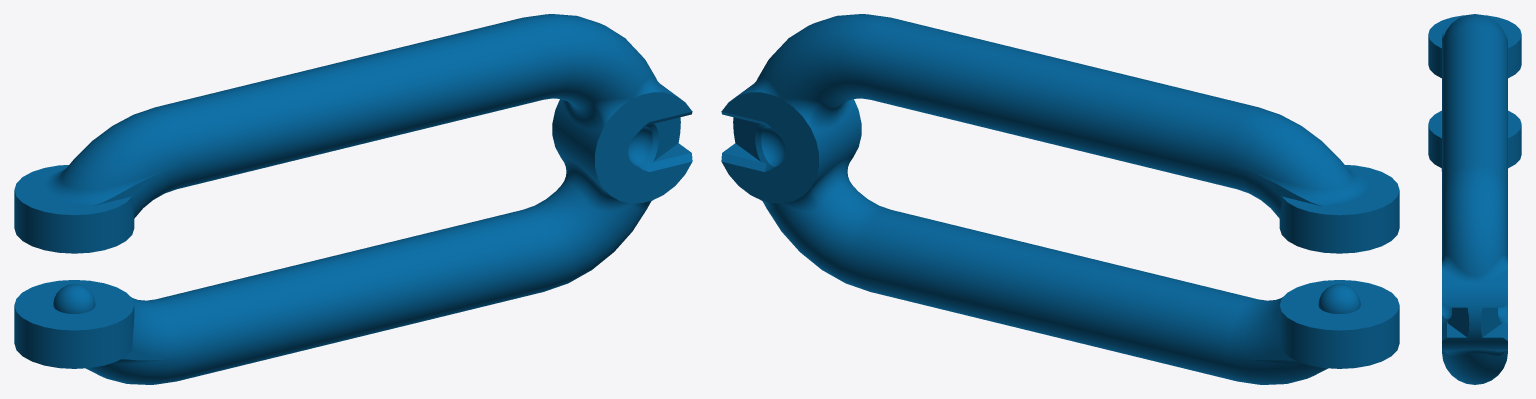
The model's file is chains v15.glb.
3 renders of one model, left to right at view 1: azimuth 30°, elevation 25°; view 2: azimuth 150°, elevation 25°; view 3: azimuth 270°, elevation 25°, orthographic. The views are drawn at different scales.
Parts seen in each view (by area): view 1: Body1; view 2: Body1; view 3: Body1.
Part boxes in pixels (<box>): Body1: <box>14,14,692,384</box>; Body1: <box>721,14,1399,384</box>; Body1: <box>1428,14,1521,384</box>.
Size of the model in its own units: 0.1783 by 0.07 by 0.0283.
